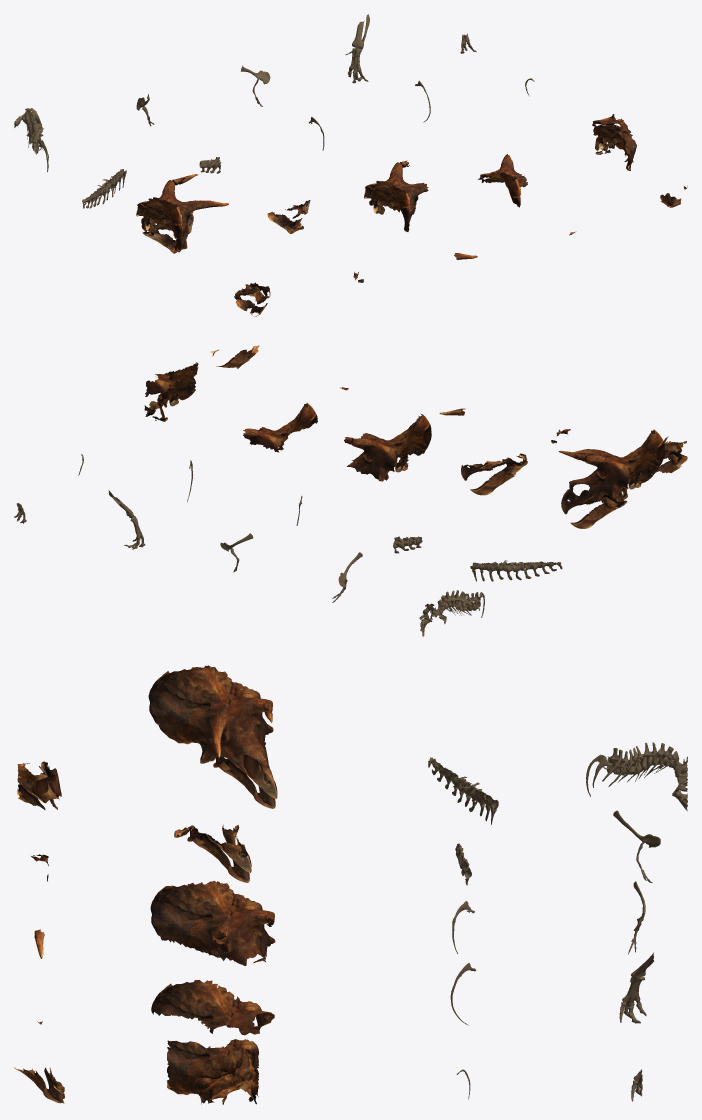
File: RHC7_RealBoneSet.fbx
3 renders of one model, top to bottom at view 1: azimuth 30°, elevation 25°; view 2: azimuth 150°, elevation 25°; view 3: azimuth 270°, elevation 25°, orthographic. The views are drawn at different scales.
Parts seen in each view (by area): view 1: Triceratops_Skull, Triceratops_Frill, Triceratops_Occiput, Triceratops_FrillEdge, Trex_Neck, Triceratops_Jugal_L, Trex_Hindlimb_L, Trex_Pelvis, Triceratops_Mandible; view 2: Triceratops_Skull, Triceratops_Frill, Triceratops_Occiput, Triceratops_FrillEdge, Trex_Neck, Triceratops_Mandible, Trex_Pelvis, Triceratops_Jugal_L; view 3: Triceratops_Skull, Triceratops_Frill, Triceratops_Occiput, Triceratops_FrillEdge, Trex_Neck, Triceratops_Mandible, Triceratops_Jugal_L, Trex_Pelvis, Trex_Hindlimb_L, Triceratops_ToothRow.
Boxes of the visible parts, x1=… form: Triceratops_Skull: x1=136, y1=174, x2=228, y2=253; Triceratops_Frill: x1=364, y1=160, x2=428, y2=231; Triceratops_Occiput: x1=592, y1=114, x2=636, y2=170; Triceratops_FrillEdge: x1=478, y1=154, x2=527, y2=207; Trex_Neck: x1=14, y1=108, x2=48, y2=171; Triceratops_Jugal_L: x1=234, y1=282, x2=270, y2=316; Trex_Hindlimb_L: x1=345, y1=14, x2=369, y2=83; Trex_Pelvis: x1=82, y1=169, x2=126, y2=208; Triceratops_Mandible: x1=267, y1=200, x2=310, y2=233; Triceratops_Skull: x1=558, y1=429, x2=664, y2=528; Triceratops_Frill: x1=344, y1=413, x2=431, y2=481; Triceratops_Occiput: x1=144, y1=362, x2=198, y2=421; Triceratops_FrillEdge: x1=243, y1=403, x2=317, y2=452; Trex_Neck: x1=419, y1=590, x2=484, y2=636; Triceratops_Mandible: x1=461, y1=453, x2=527, y2=495; Trex_Pelvis: x1=470, y1=560, x2=562, y2=581; Triceratops_Jugal_L: x1=656, y1=436, x2=687, y2=473; Triceratops_Skull: x1=148, y1=665, x2=277, y2=808; Triceratops_Frill: x1=150, y1=881, x2=275, y2=965; Triceratops_Occiput: x1=167, y1=1039, x2=258, y2=1104; Triceratops_FrillEdge: x1=151, y1=980, x2=274, y2=1035; Trex_Neck: x1=586, y1=742, x2=687, y2=811; Triceratops_Mandible: x1=174, y1=824, x2=251, y2=882; Triceratops_Jugal_L: x1=17, y1=761, x2=61, y2=809; Trex_Pelvis: x1=428, y1=757, x2=498, y2=824; Trex_Hindlimb_L: x1=619, y1=952, x2=653, y2=1023; Triceratops_ToothRow: x1=14, y1=1067, x2=64, y2=1103.
Size of the model in its own units: 2.04 by 0.3244 by 1.75.
Materials: 2 (2 with a texture image).
